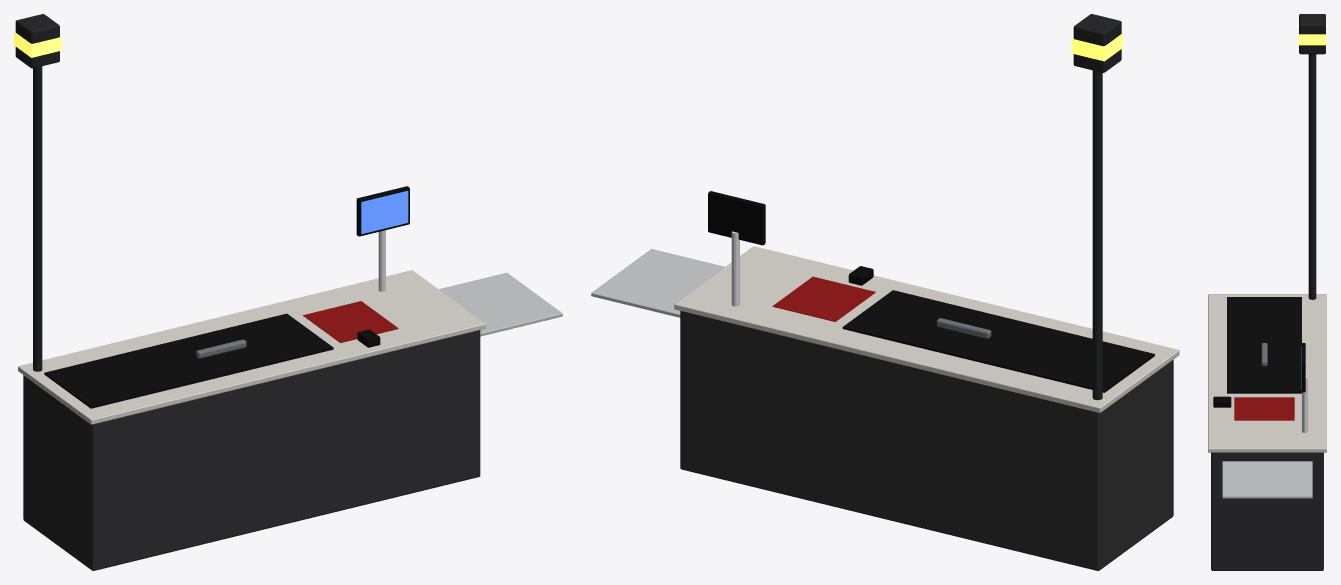
File: checkout.glb
3 renders of one model, left to right at view 1: azimuth 30°, elevation 25°; view 2: azimuth 150°, elevation 25°; view 3: azimuth 270°, elevation 25°, orthographic. The views are drawn at different scales.
Visible parts, largest first — view 1: Checkout; view 2: Checkout; view 3: Checkout.
Part boxes in pixels (left/top/right/bottom): Checkout: left=14, top=14, right=562, bottom=570; Checkout: left=591, top=14, right=1179, bottom=570; Checkout: left=1208, top=14, right=1326, bottom=570.
Bounding box in the file's own units: 2.99 × 2.96 × 0.79.
